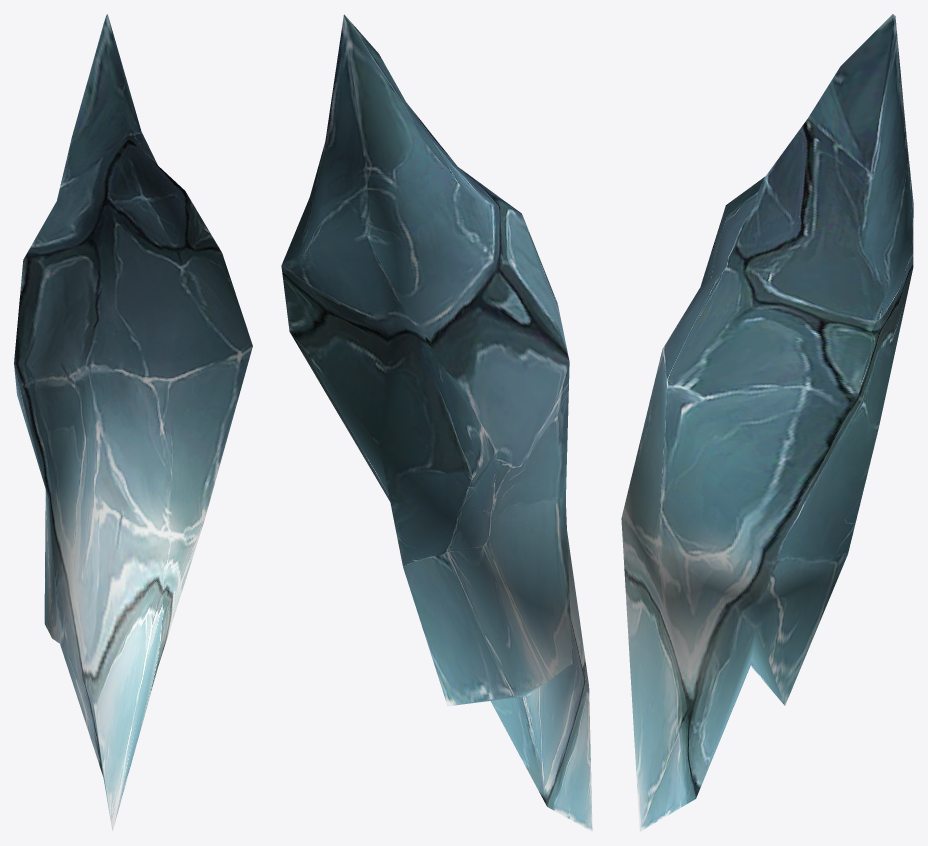
Rendered from iceShard.fbx.
3 views of the same model, side by side, from view 1: azimuth 30°, elevation 25°; view 2: azimuth 150°, elevation 25°; view 3: azimuth 270°, elevation 25° (orthographic). The views are drawn at different scales.
Visible parts, largest first — view 1: iceShard; view 2: iceShard; view 3: iceShard.
Part boxes in pixels (<box>): iceShard: <box>14,14,252,831</box>; iceShard: <box>281,14,592,831</box>; iceShard: <box>621,14,913,831</box>.
Bounding box in the file's own units: 3.36 × 11.68 × 3.53.
